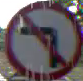Don't turn left: (3, 1, 82, 80)
